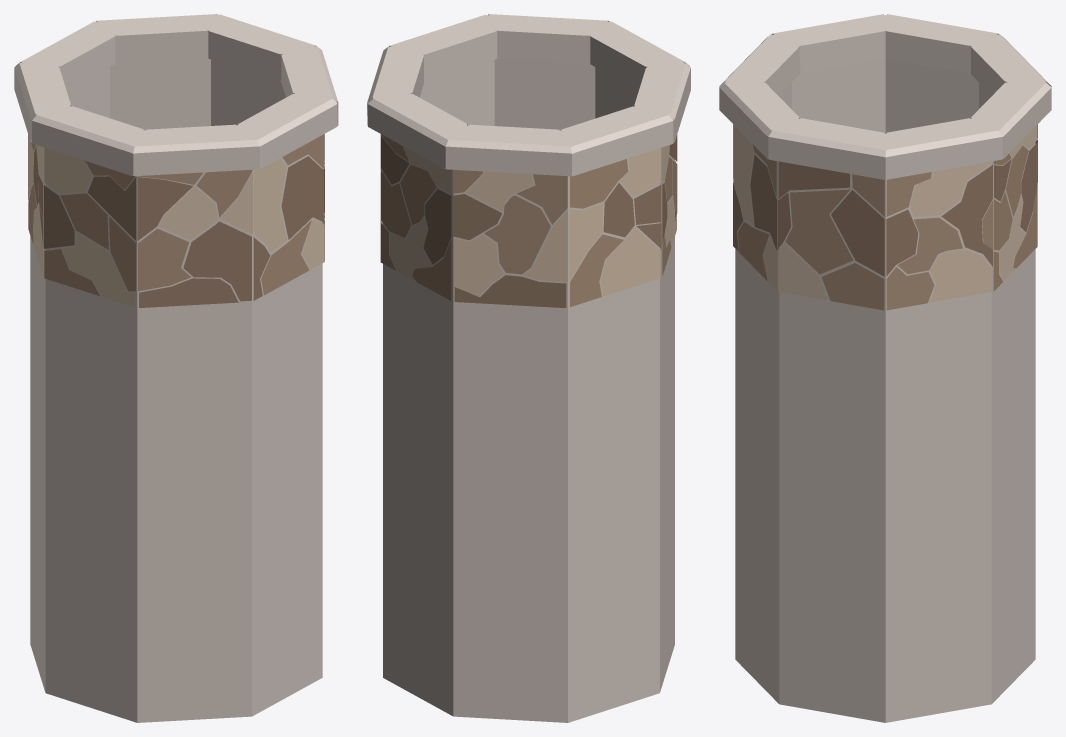
File: roman_well.fbx
The picture shows the model from 3 angles, left to right: view 1: azimuth 30°, elevation 25°; view 2: azimuth 150°, elevation 25°; view 3: azimuth 270°, elevation 25°; orthographic projection.
Visible parts, largest first — view 1: Cylinder.028; view 2: Cylinder.028; view 3: Cylinder.028.
Boxes of the visible parts, bbox=[...] form: Cylinder.028: bbox=[14, 14, 338, 722]; Cylinder.028: bbox=[367, 14, 690, 722]; Cylinder.028: bbox=[719, 14, 1051, 722].
Bounding box in the file's own units: 2.19 × 4.2 × 2.19.
